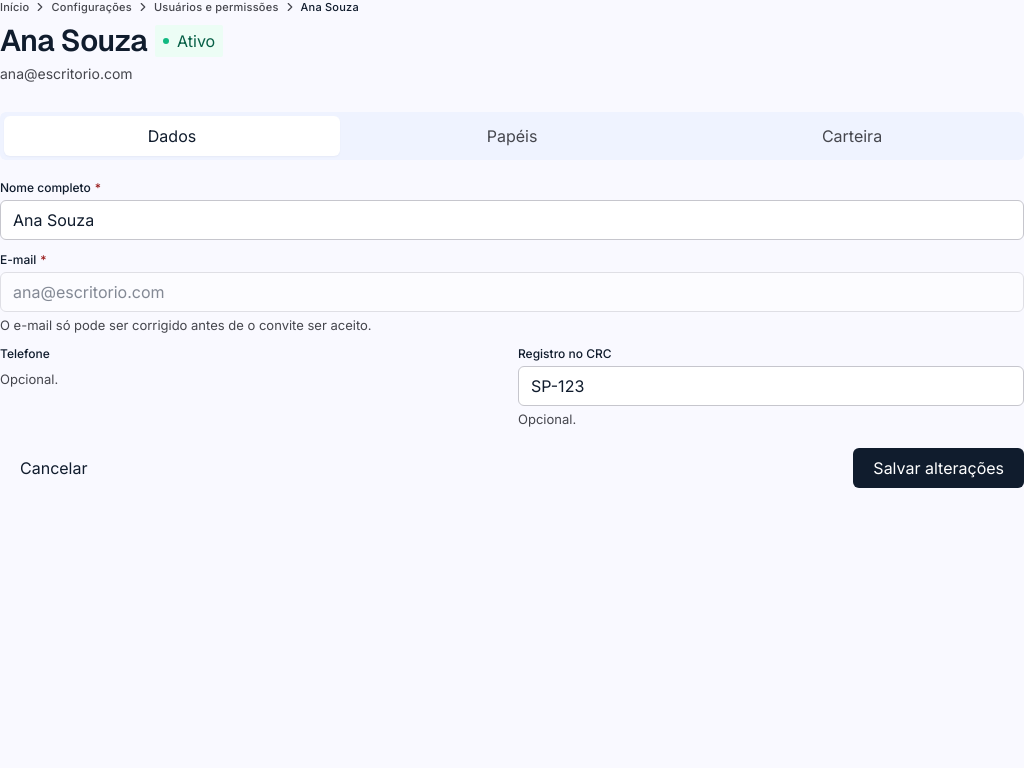
abas Dados e Papéis (administrador) › último administrador: a proteção aparece num AlertDialog, não como toast
Expected: the field labelled "Nome completo*" is shown, left=0, top=200, right=1023, bottom=240
Click the button "Salvar alterações" at coordinates (939, 468), box left=853, top=448, right=1023, bottom=488
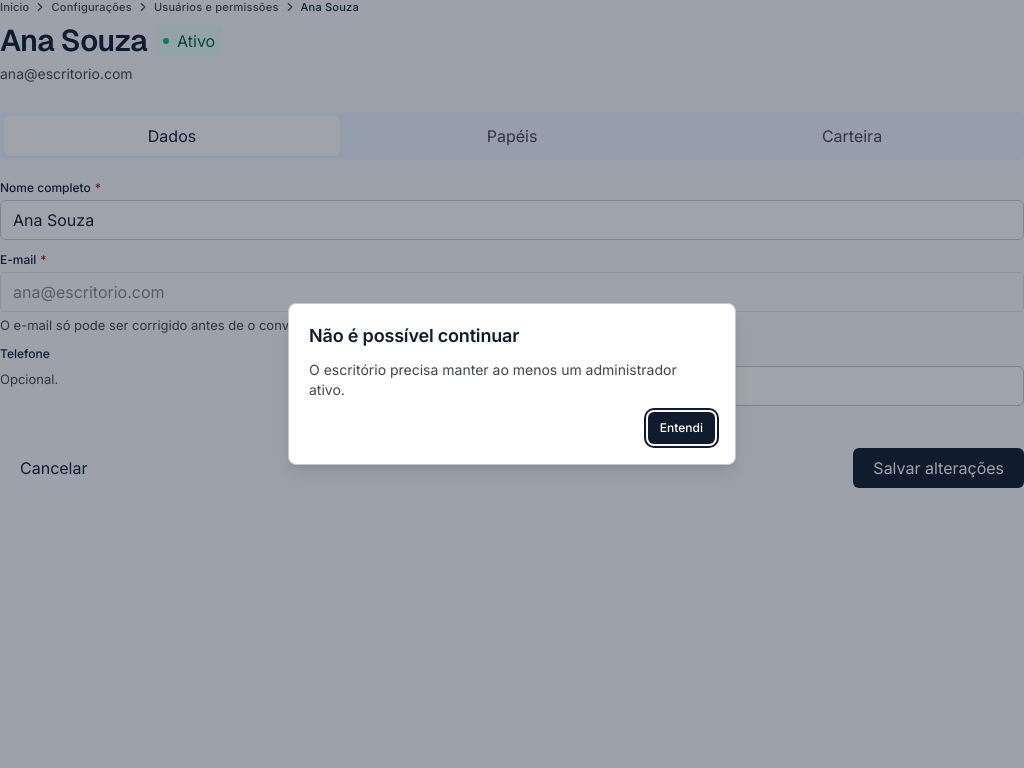
Expected: the dialog shows "ao menos um administrador ativo", left=309, top=361, right=677, bottom=398
Click the button "Entendi" at coordinates (681, 428), box left=648, top=412, right=715, bottom=444
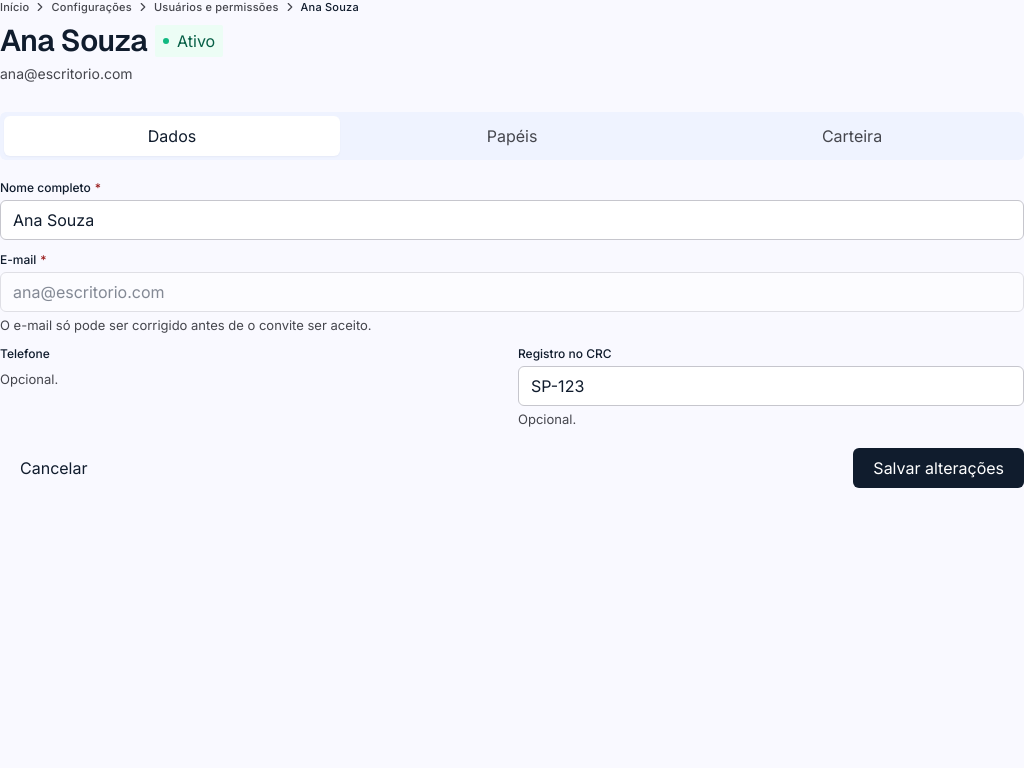
Expected: the dialog is gone
